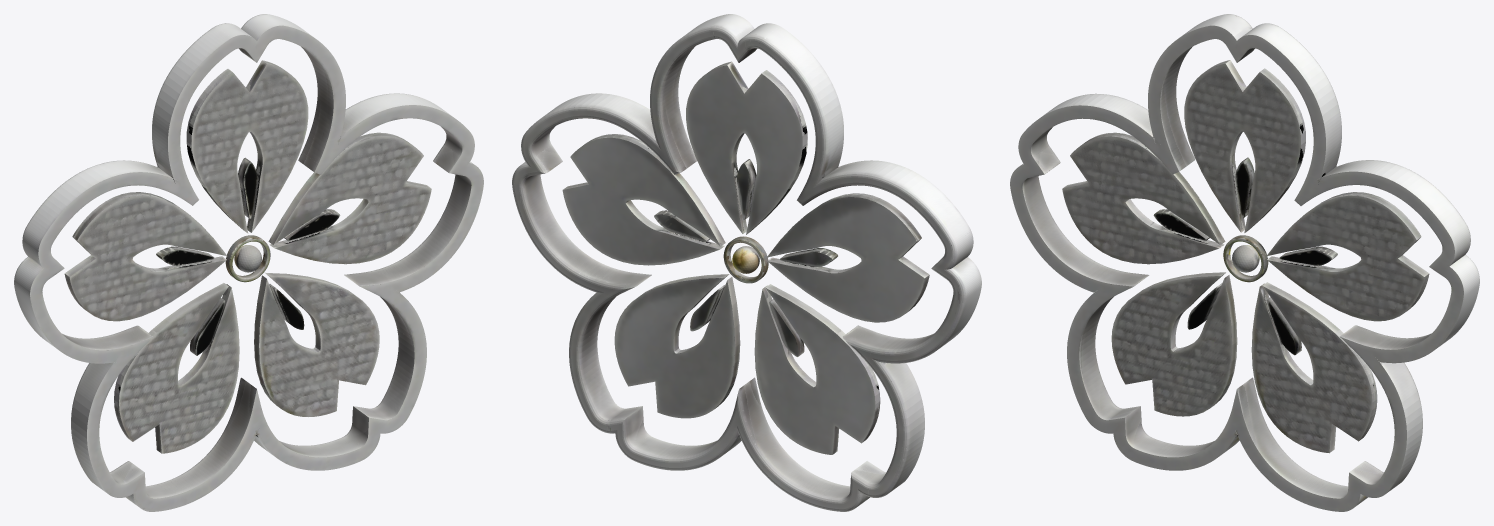
Rendered from textured_simple.glb.
3 renders of one model, left to right at view 1: azimuth 30°, elevation 25°; view 2: azimuth 150°, elevation 25°; view 3: azimuth 330°, elevation 25°, orthographic.
Parts seen in each view (by area): view 1: Node; view 2: Node; view 3: Node.
Part boxes in pixels (x1,y1,x2,y2): Node: [14, 14, 483, 511]; Node: [512, 14, 981, 511]; Node: [1010, 14, 1479, 511].
Bounding box in the file's own units: 2 × 1.93 × 0.1348.
1 material, 1 textured.
